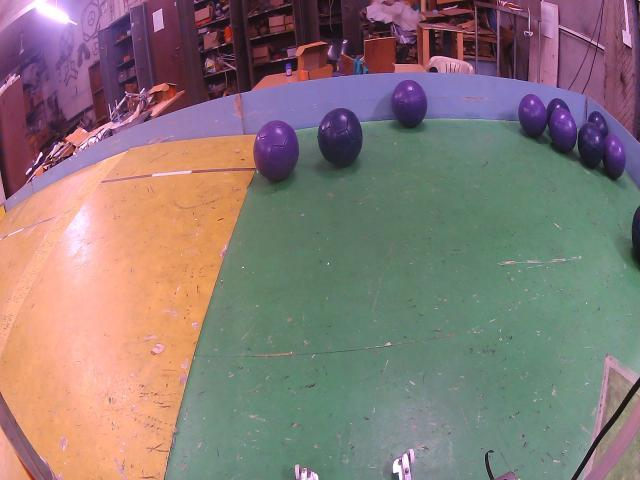jambhalya: (254, 120, 299, 181), (391, 80, 428, 128), (519, 93, 548, 137), (549, 108, 578, 152), (602, 135, 626, 178)
kaalyya: (318, 108, 362, 167), (578, 122, 604, 168), (546, 98, 569, 124), (588, 112, 609, 138)
